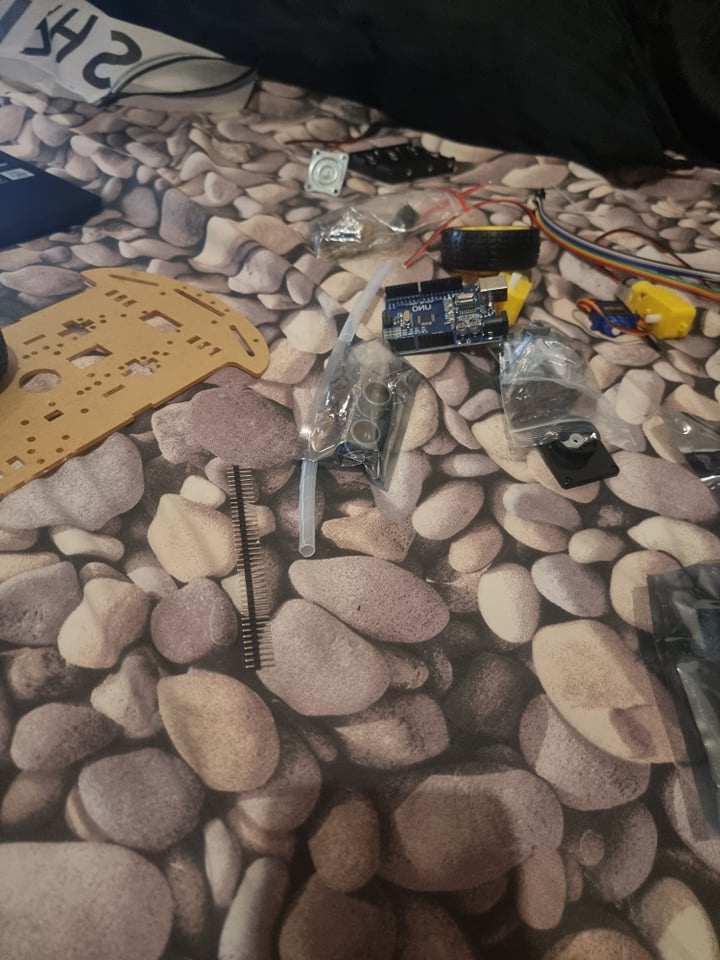BATTERY BOX: (349, 139, 462, 188)
SENSOR: (335, 377, 400, 464)
UNO R3: (381, 272, 515, 358)
